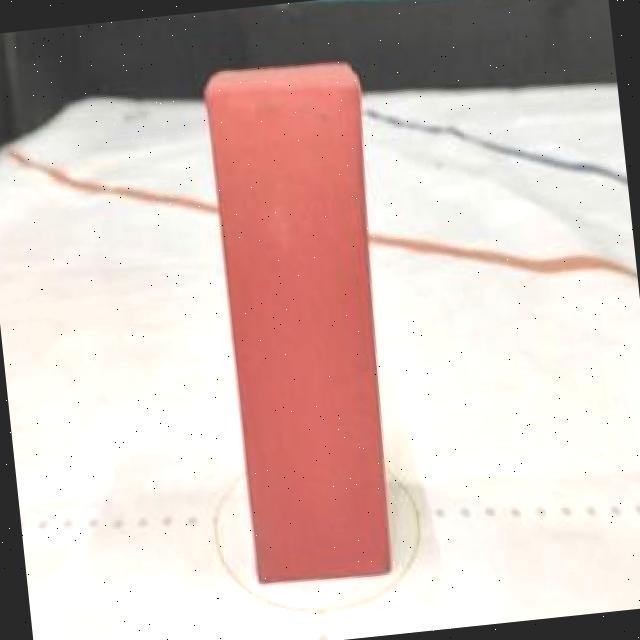redbox: (202, 52, 412, 589)
